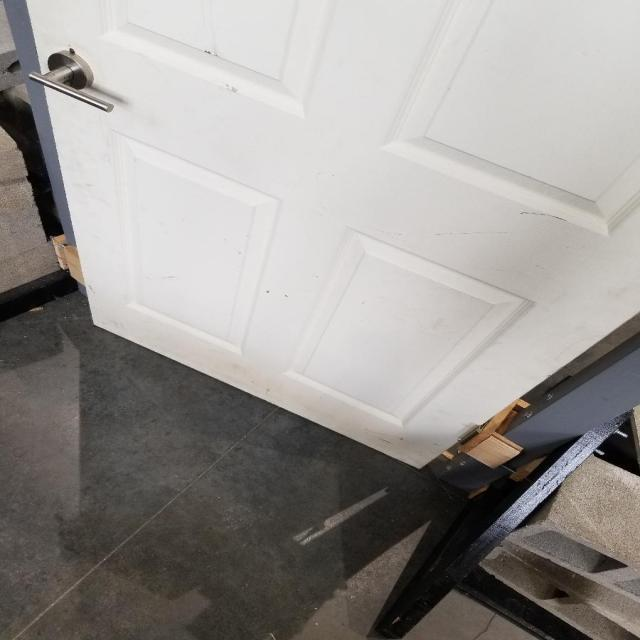door: (26, 46, 117, 115)
